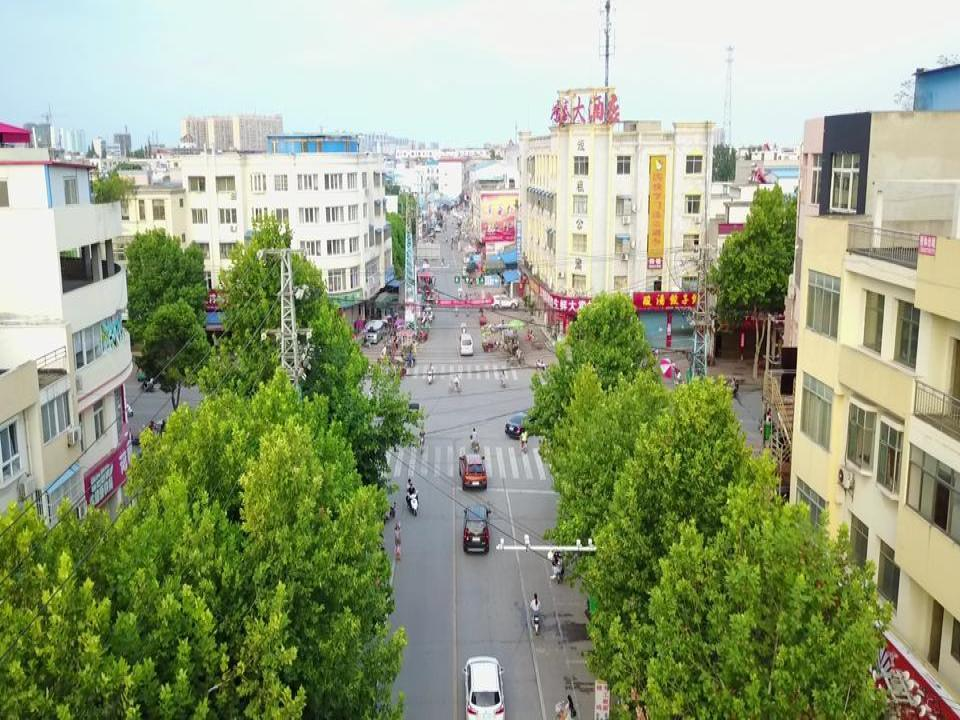car: (461, 656, 506, 719), (461, 504, 491, 552), (459, 454, 487, 490), (505, 411, 543, 437), (616, 345, 658, 367), (491, 295, 519, 309)
van: (366, 320, 385, 344), (458, 332, 473, 355)
